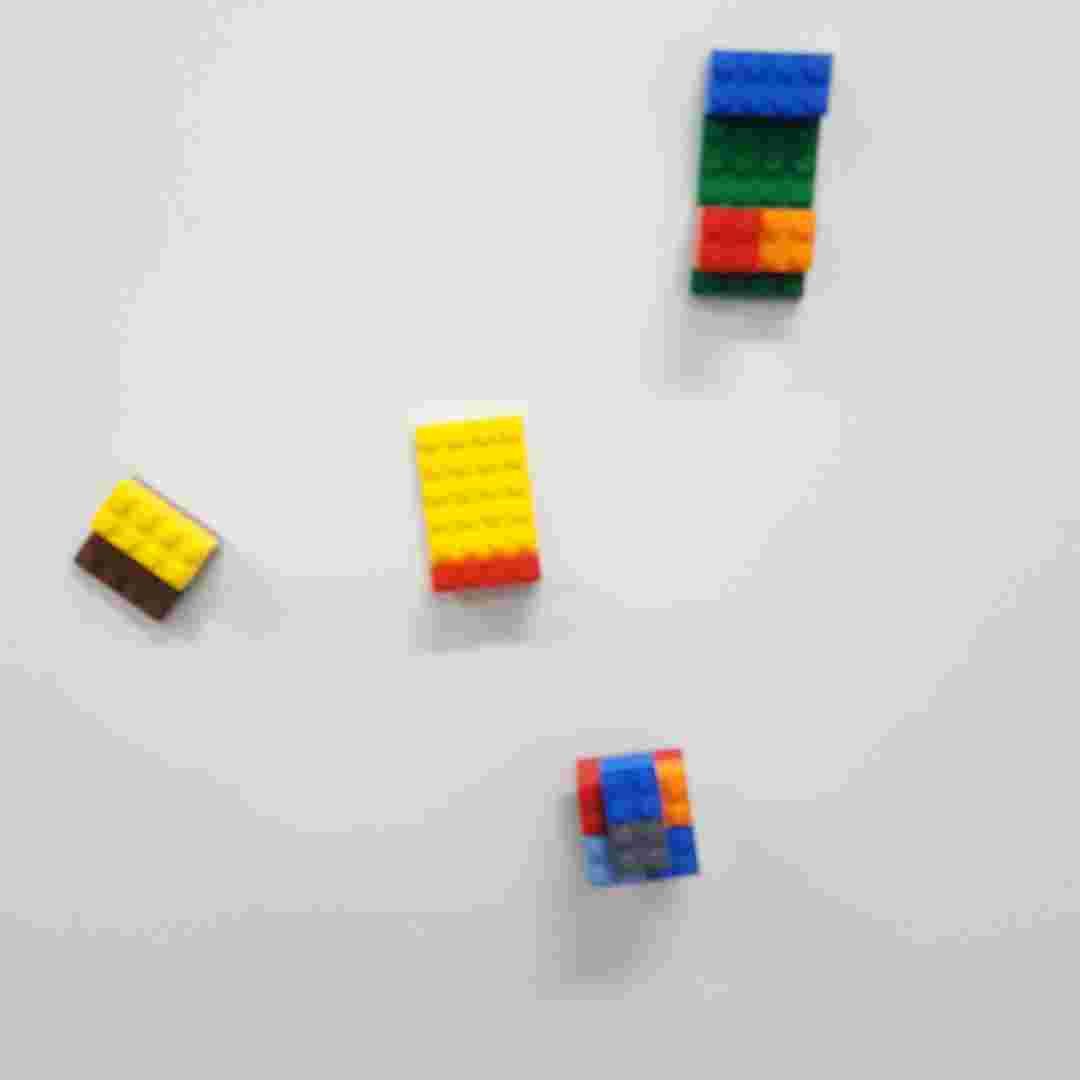LEGO: (675, 47, 826, 303), (406, 407, 549, 593), (72, 476, 228, 628), (572, 747, 710, 892)
